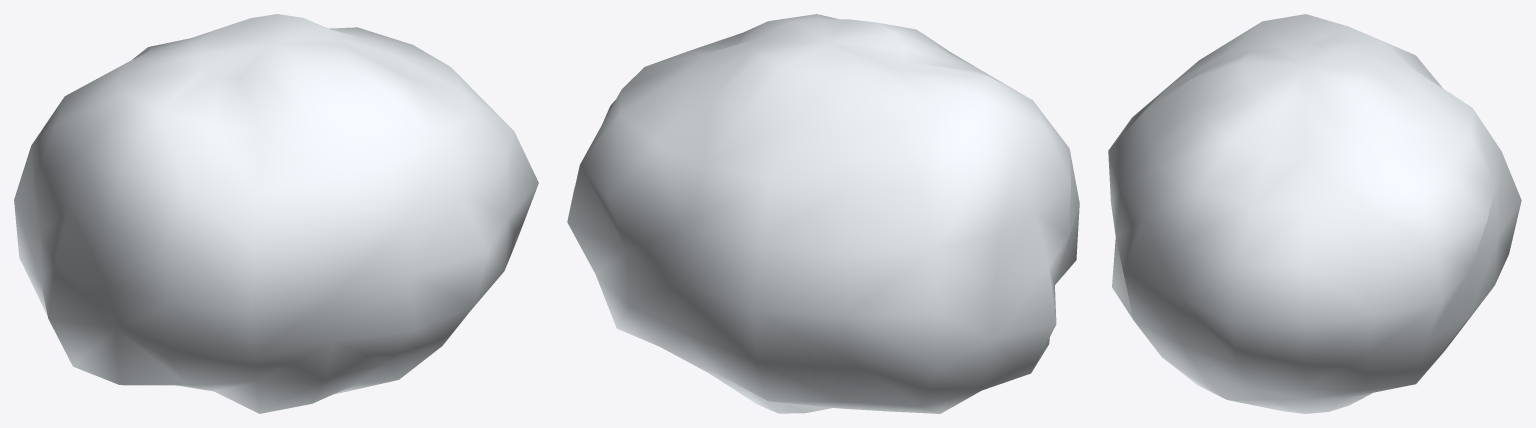
File: MiniBoss_Pin_Gonflable_Eau_Projectile_Neige.fbx
3 renders of one model, left to right at view 1: azimuth 30°, elevation 25°; view 2: azimuth 150°, elevation 25°; view 3: azimuth 270°, elevation 25°, orthographic. The views are drawn at different scales.
Visible parts, largest first — view 1: MiniBoss_Pin_Gonflable_Eau_Projectile_Neige; view 2: MiniBoss_Pin_Gonflable_Eau_Projectile_Neige; view 3: MiniBoss_Pin_Gonflable_Eau_Projectile_Neige.
Boxes of the visible parts, x1,y1,x2,y2 form: MiniBoss_Pin_Gonflable_Eau_Projectile_Neige: [14, 14, 538, 413]; MiniBoss_Pin_Gonflable_Eau_Projectile_Neige: [567, 14, 1079, 413]; MiniBoss_Pin_Gonflable_Eau_Projectile_Neige: [1108, 14, 1521, 413].
Size of the model in its own units: 0.7216 by 0.5178 by 0.6147.
1 material, 1 textured.
